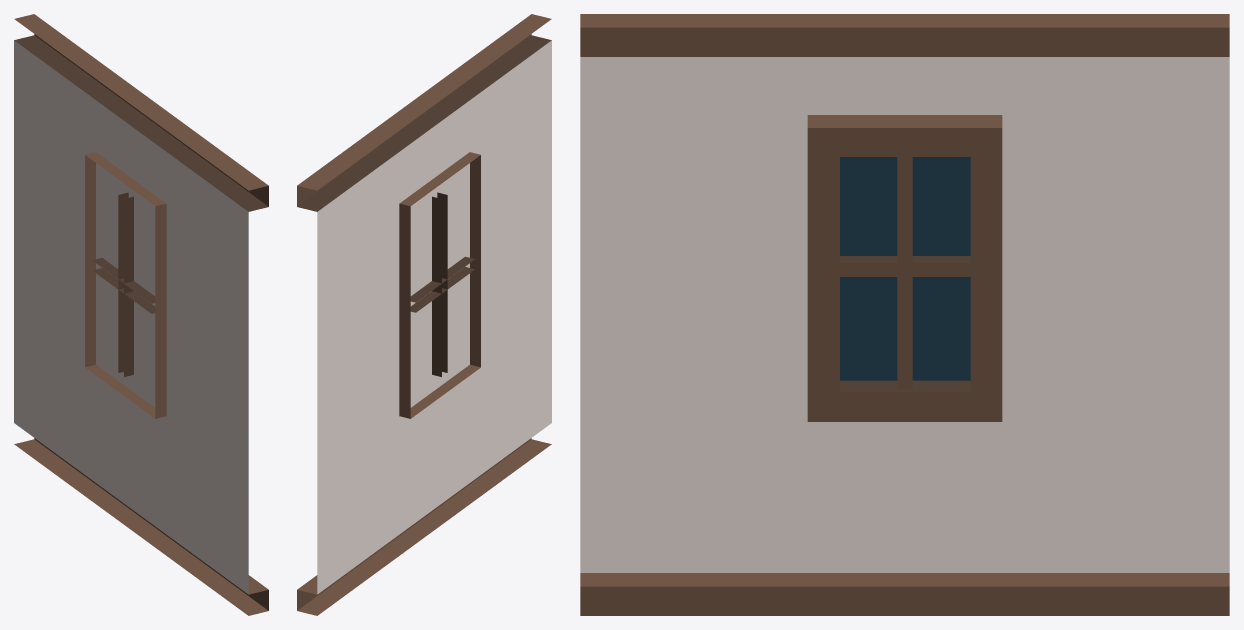
The model's file is basic_wall_002.fbx.
The picture shows the model from 3 angles, left to right: view 1: azimuth 30°, elevation 25°; view 2: azimuth 150°, elevation 25°; view 3: azimuth 270°, elevation 25°; orthographic projection. The views are drawn at different scales.
Parts seen in each view (by area): view 1: Base_Wall.002; view 2: Base_Wall.002; view 3: Base_Wall.002.
Boxes of the visible parts, bbox=[...] form: Base_Wall.002: bbox=[14, 14, 268, 615]; Base_Wall.002: bbox=[297, 14, 551, 615]; Base_Wall.002: bbox=[580, 14, 1229, 615].
Bounding box in the file's own units: 200 × 15.54 × 200.
